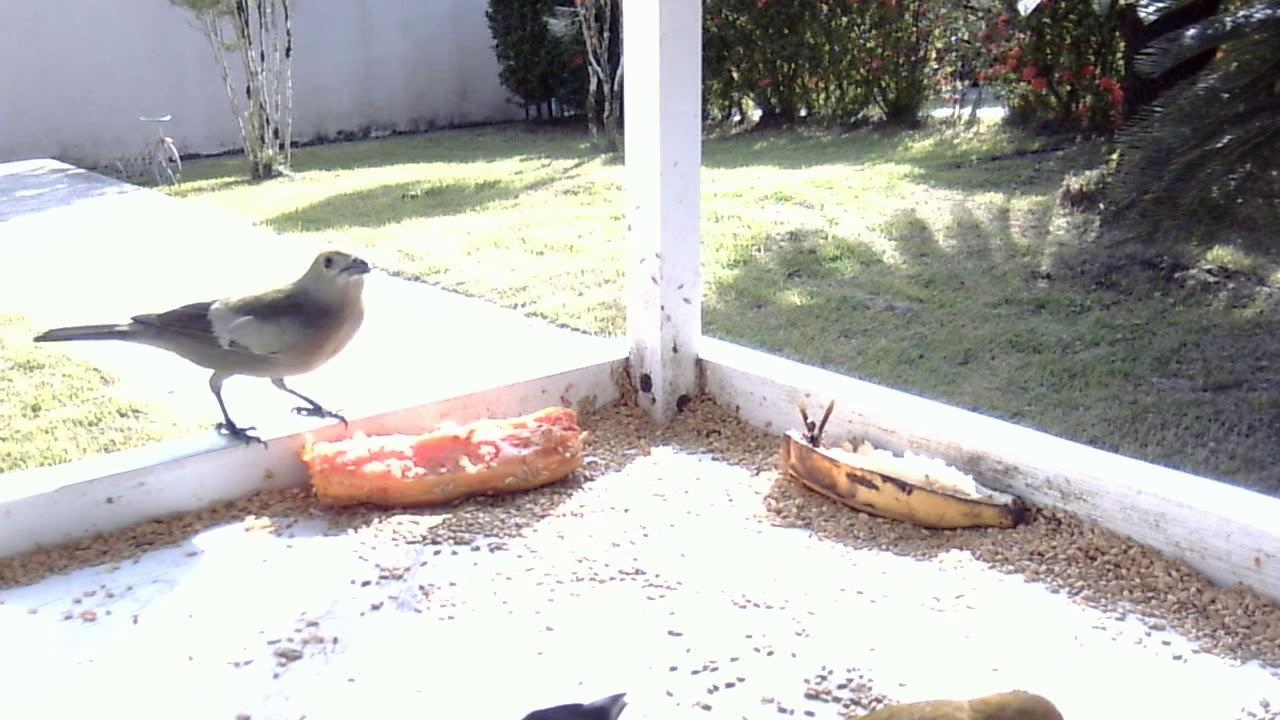sanhaco_do_coqueiro: (34, 231, 389, 466)
